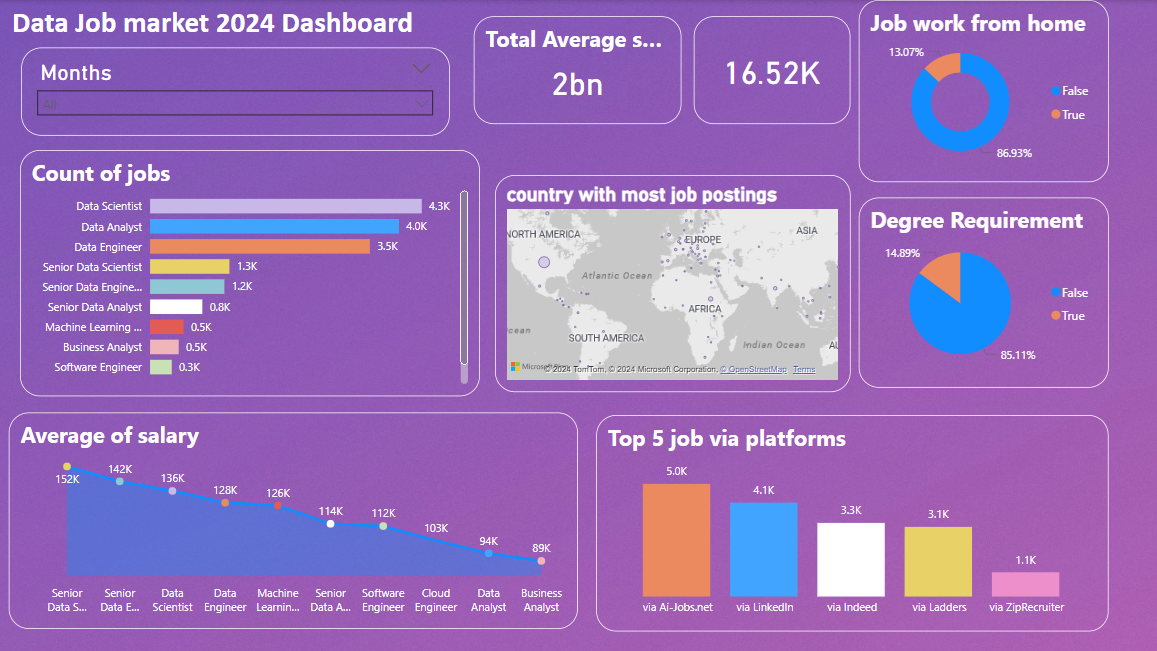

Layout of this report page (visuals, bound fields, positions):
{"tool":"powerbi","page":{"name":"Page 1","canvas":[1280,720],"ordinal":0},"visuals":[{"type":"clusteredBarChart","title":"Count of jobs","fields":{"Category":["data_jobs.job_title_short"],"Y":["CountNonNull(data_jobs.job_title_short)"]},"box":[27.5,165,505,270],"z":0},{"type":"card","title":"Accurate Counts when hover","fields":{"Values":["CountNonNull(data_jobs.job_title_short)"]},"box":[766.7,18.3,171.7,118.3],"z":1000},{"type":"areaChart","title":"Average of salary","fields":{"Category":["data_jobs.job_title_short"],"Y":["Avg(data_jobs.salary_year_avg)"]},"box":[15,452.5,625,237.5],"z":2000},{"type":"map","title":"country with most job postings","fields":{"Category":["data_jobs.job_country"],"Size":["CountNonNull(data_jobs.job_title_short)"]},"box":[548.3,191.7,390,238.3],"z":3000},{"type":"pieChart","title":"Degree Requirement","fields":{"Y":["CountNonNull(data_jobs.job_no_degree_mention)"],"Series":["data_jobs.job_no_degree_mention"]},"box":[948.6,217.1,274.3,208.6],"z":4000},{"type":"donutChart","title":"Job work from home","fields":{"Y":["CountNonNull(data_jobs.job_work_from_home)"],"Series":["data_jobs.job_work_from_home"]},"box":[948.2,0,274.4,200.3],"z":5000},{"type":"columnChart","title":"Top 5 job via platforms","fields":{"Category":["data_jobs.job_via"],"Y":["CountNonNull(data_jobs.job_via)"]},"box":[660,455,562.5,237.5],"z":6000},{"type":"textbox","box":[14.3,0,625.7,68.6],"z":7000},{"type":"slicer","fields":{"Values":["data_jobs.Month Name"]},"box":[28.3,51.7,470,96.7],"z":8000},{"type":"card","title":"Total Average  salary","fields":{"Values":["Sum(data_jobs.salary_year_avg)"]},"box":[525,18.3,228.3,118.3],"z":8001}]}

Visuals, with their boxes in screenshot pixels (x1, y1, x2, y2), scaled from the page's 1280x720 canvas onto the 1157x651 screenshot:
"Count of jobs" clusteredBarChart: bbox=(25, 149, 481, 393)
"Accurate Counts when hover" card: bbox=(693, 17, 848, 124)
"Average of salary" areaChart: bbox=(14, 409, 578, 624)
"country with most job postings" map: bbox=(496, 173, 848, 389)
"Degree Requirement" pieChart: bbox=(857, 196, 1105, 385)
"Job work from home" donutChart: bbox=(857, 0, 1105, 181)
"Top 5 job via platforms" columnChart: bbox=(597, 411, 1105, 626)
textbox: bbox=(13, 0, 578, 62)
slicer - data_jobs.Month Name: bbox=(26, 47, 450, 134)
"Total Average  salary" card: bbox=(475, 17, 681, 124)
